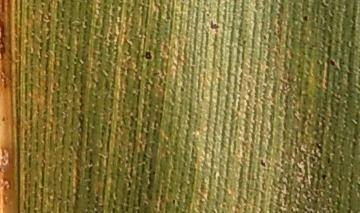tarspot: (141, 48, 155, 63), (209, 18, 221, 34), (313, 140, 324, 155), (201, 9, 212, 19), (258, 157, 269, 167), (300, 13, 310, 23), (177, 82, 186, 92), (158, 192, 168, 201), (328, 58, 337, 67), (240, 37, 248, 46), (320, 172, 328, 181), (319, 1, 328, 9), (165, 188, 175, 195), (176, 170, 187, 176), (324, 155, 332, 163), (172, 205, 179, 213), (291, 15, 298, 23), (170, 197, 176, 206), (237, 26, 244, 33), (176, 199, 181, 205)
